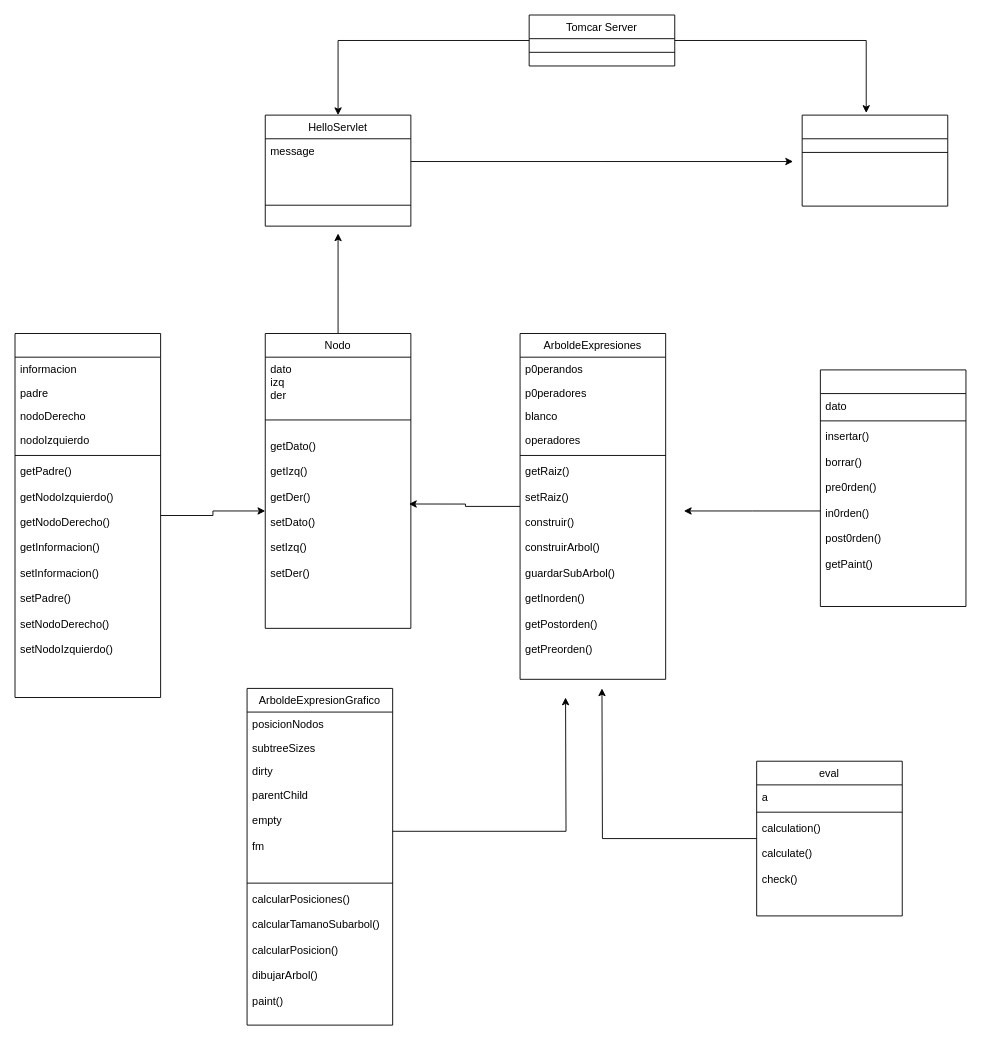
The diagram is 981 pixels wide and 1040 high, and some of its shapes have lost their labels. Each missing label, with the box of its shape:
index jsp: (801, 114, 948, 206)
Nodo1: (14, 333, 161, 698)
SimuladorArbolBinario: (819, 369, 966, 607)
